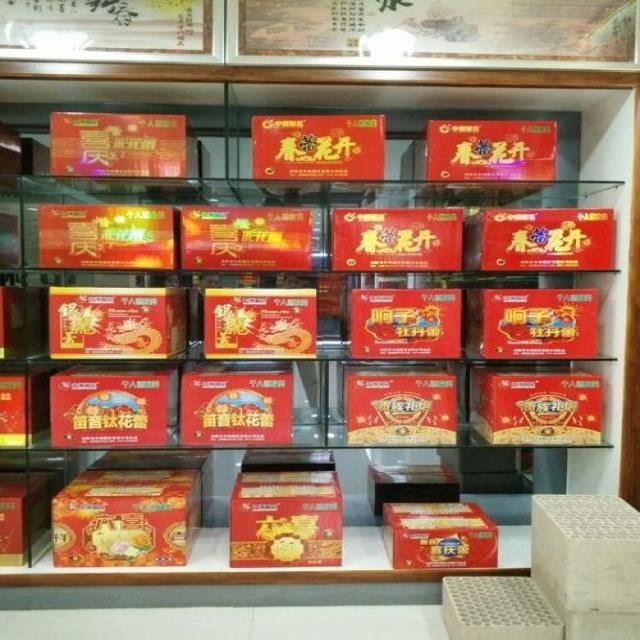box: (51, 468, 204, 566), (530, 496, 639, 612), (251, 115, 385, 198), (229, 469, 342, 567), (415, 121, 558, 198), (49, 363, 178, 446), (468, 366, 603, 445), (50, 285, 189, 360), (465, 288, 600, 361), (50, 112, 198, 178), (178, 364, 293, 446), (342, 364, 457, 445), (37, 205, 178, 271), (465, 209, 616, 270), (179, 204, 314, 270), (330, 207, 465, 272), (344, 288, 462, 359), (379, 501, 499, 568), (440, 576, 564, 640), (204, 289, 319, 358), (530, 576, 640, 640), (0, 470, 67, 567), (0, 364, 67, 446), (0, 286, 49, 361), (0, 124, 22, 174)
